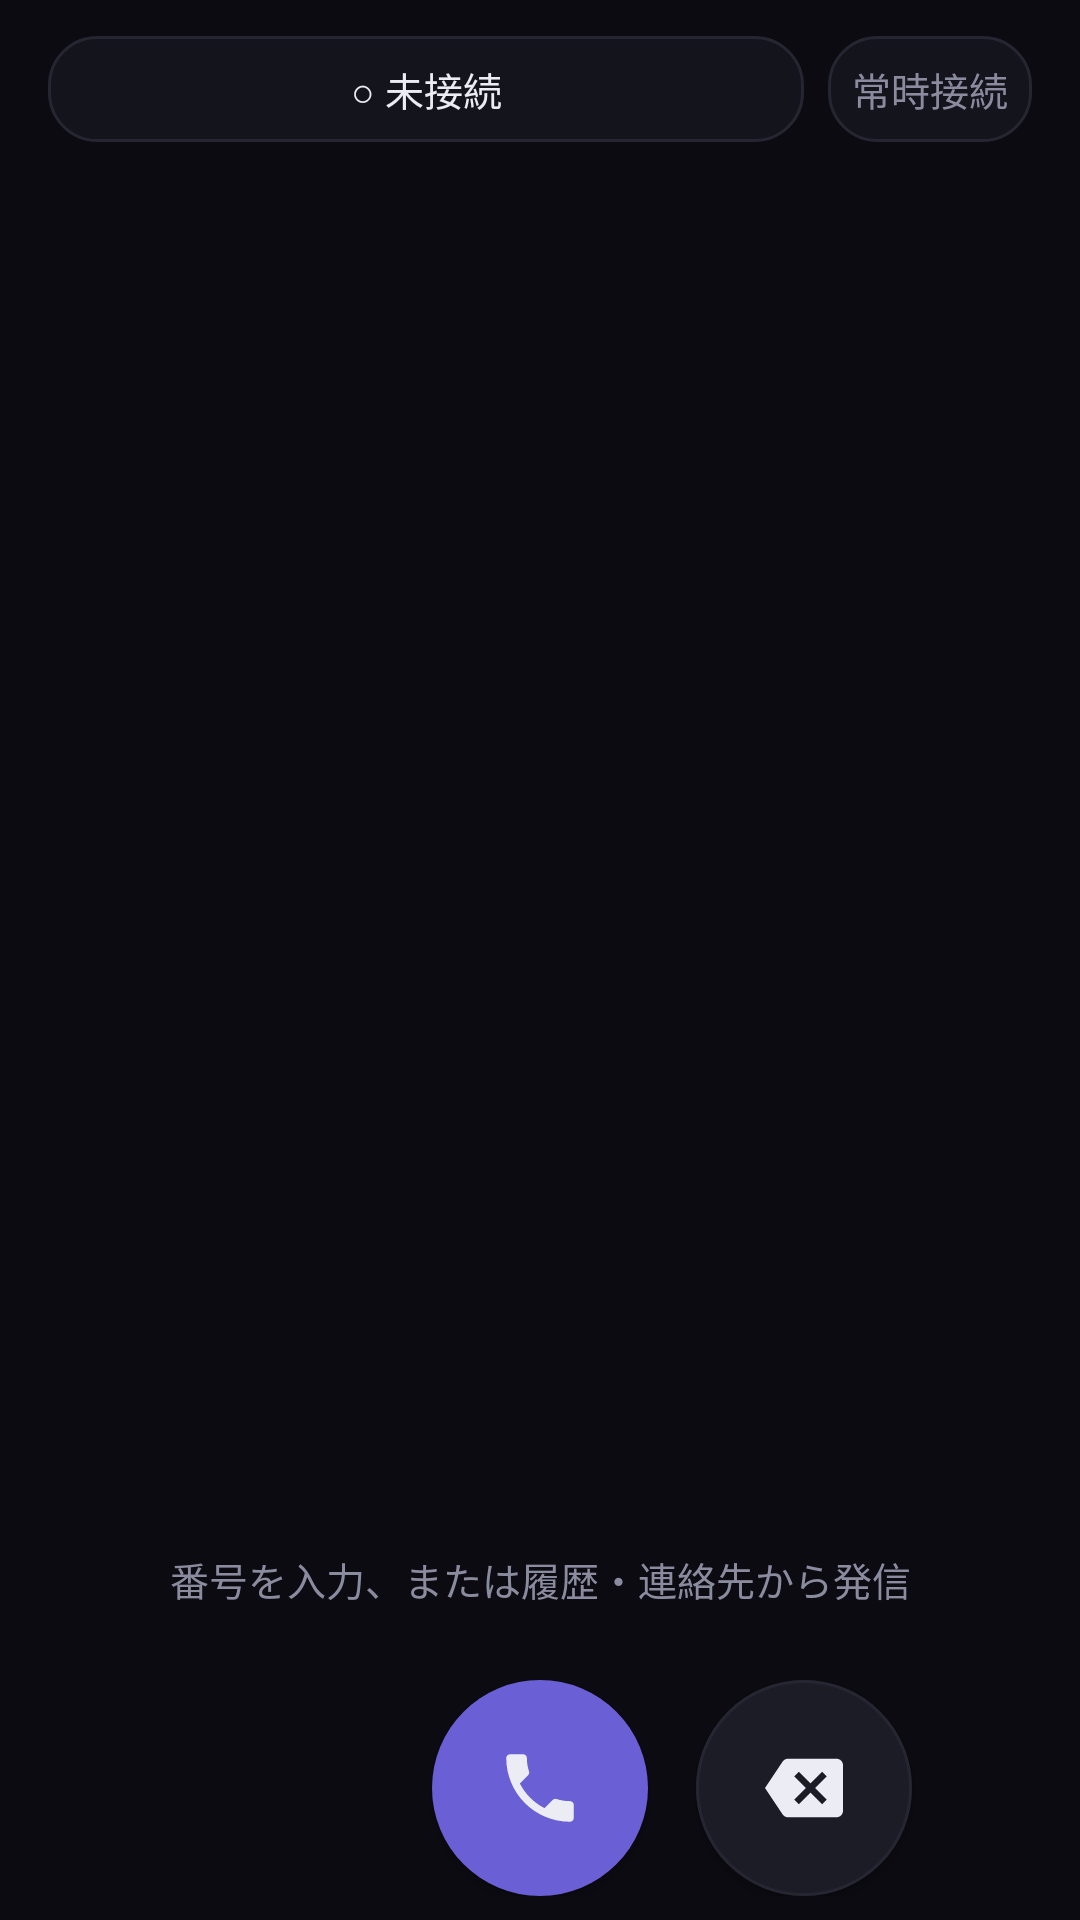

Named icons in this screenshot (1080 × 1920) and their centers, (x,y):
削除 (長押しで全消去): (804,1788)
